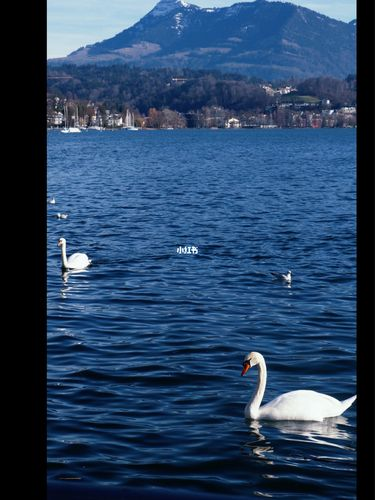mountain: (44, 41, 312, 119)
sea_river: (46, 119, 367, 420)
